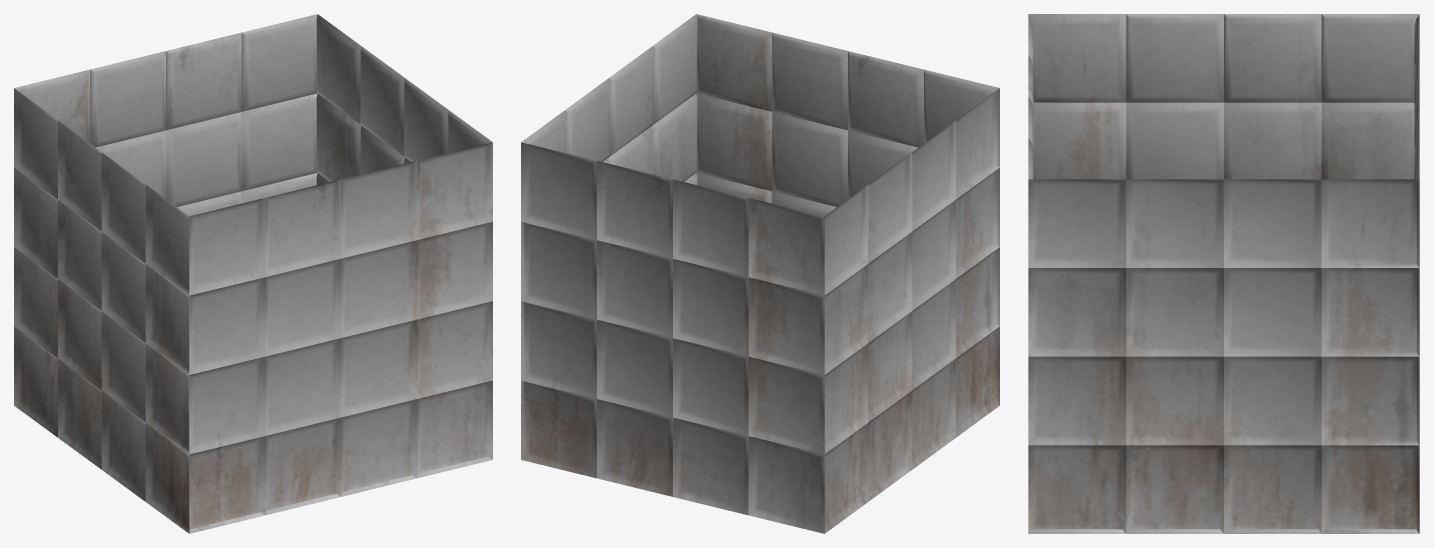
Rendered from BaliwRoom.fbx.
3 renders of one model, left to right at view 1: azimuth 30°, elevation 25°; view 2: azimuth 150°, elevation 25°; view 3: azimuth 270°, elevation 25°, orthographic. The views are drawn at different scales.
Parts seen in each view (by area): view 1: Baliw_Room; view 2: Baliw_Room; view 3: Baliw_Room.
Boxes of the visible parts, bbox=[...] form: Baliw_Room: bbox=[14, 14, 492, 533]; Baliw_Room: bbox=[521, 14, 999, 533]; Baliw_Room: bbox=[1028, 14, 1419, 533].
Size of the model in its own units: 312 by 312 by 312.
Materials: 1 (1 with a texture image).
